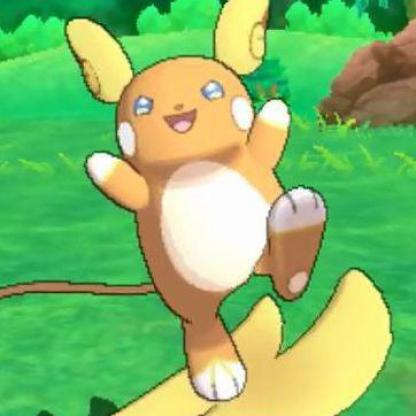Raichu: (1, 2, 412, 416)
